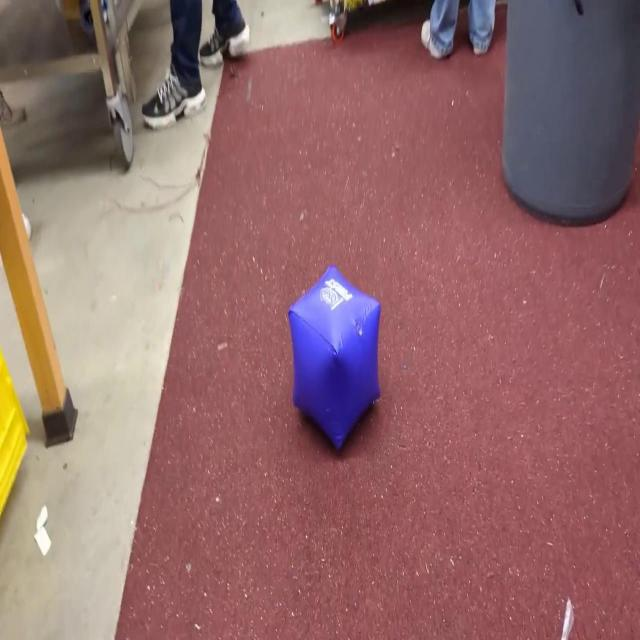frc_cube: (286, 264, 382, 452)
